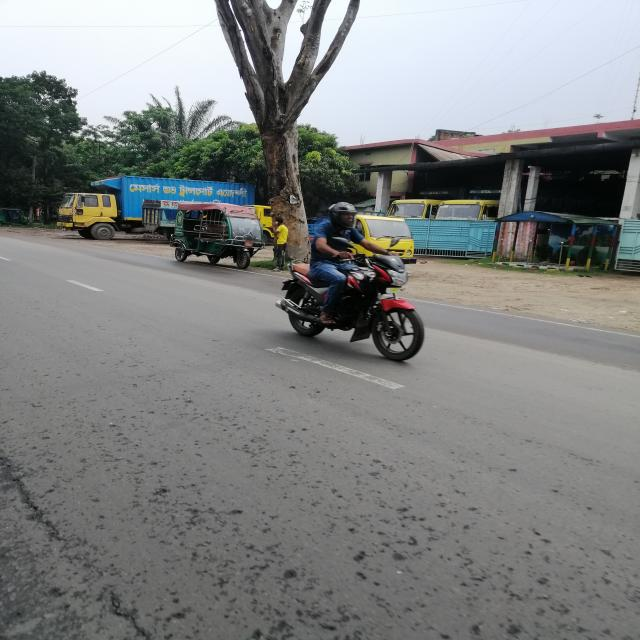Easybike: (157, 192, 275, 281)
Motorbike: (259, 257, 479, 365)
Truck: (40, 170, 283, 250)
